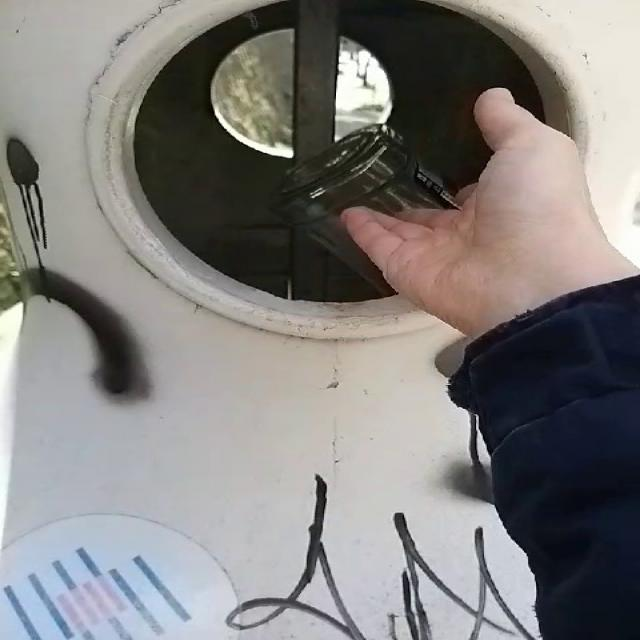glass: (271, 124, 457, 296)
